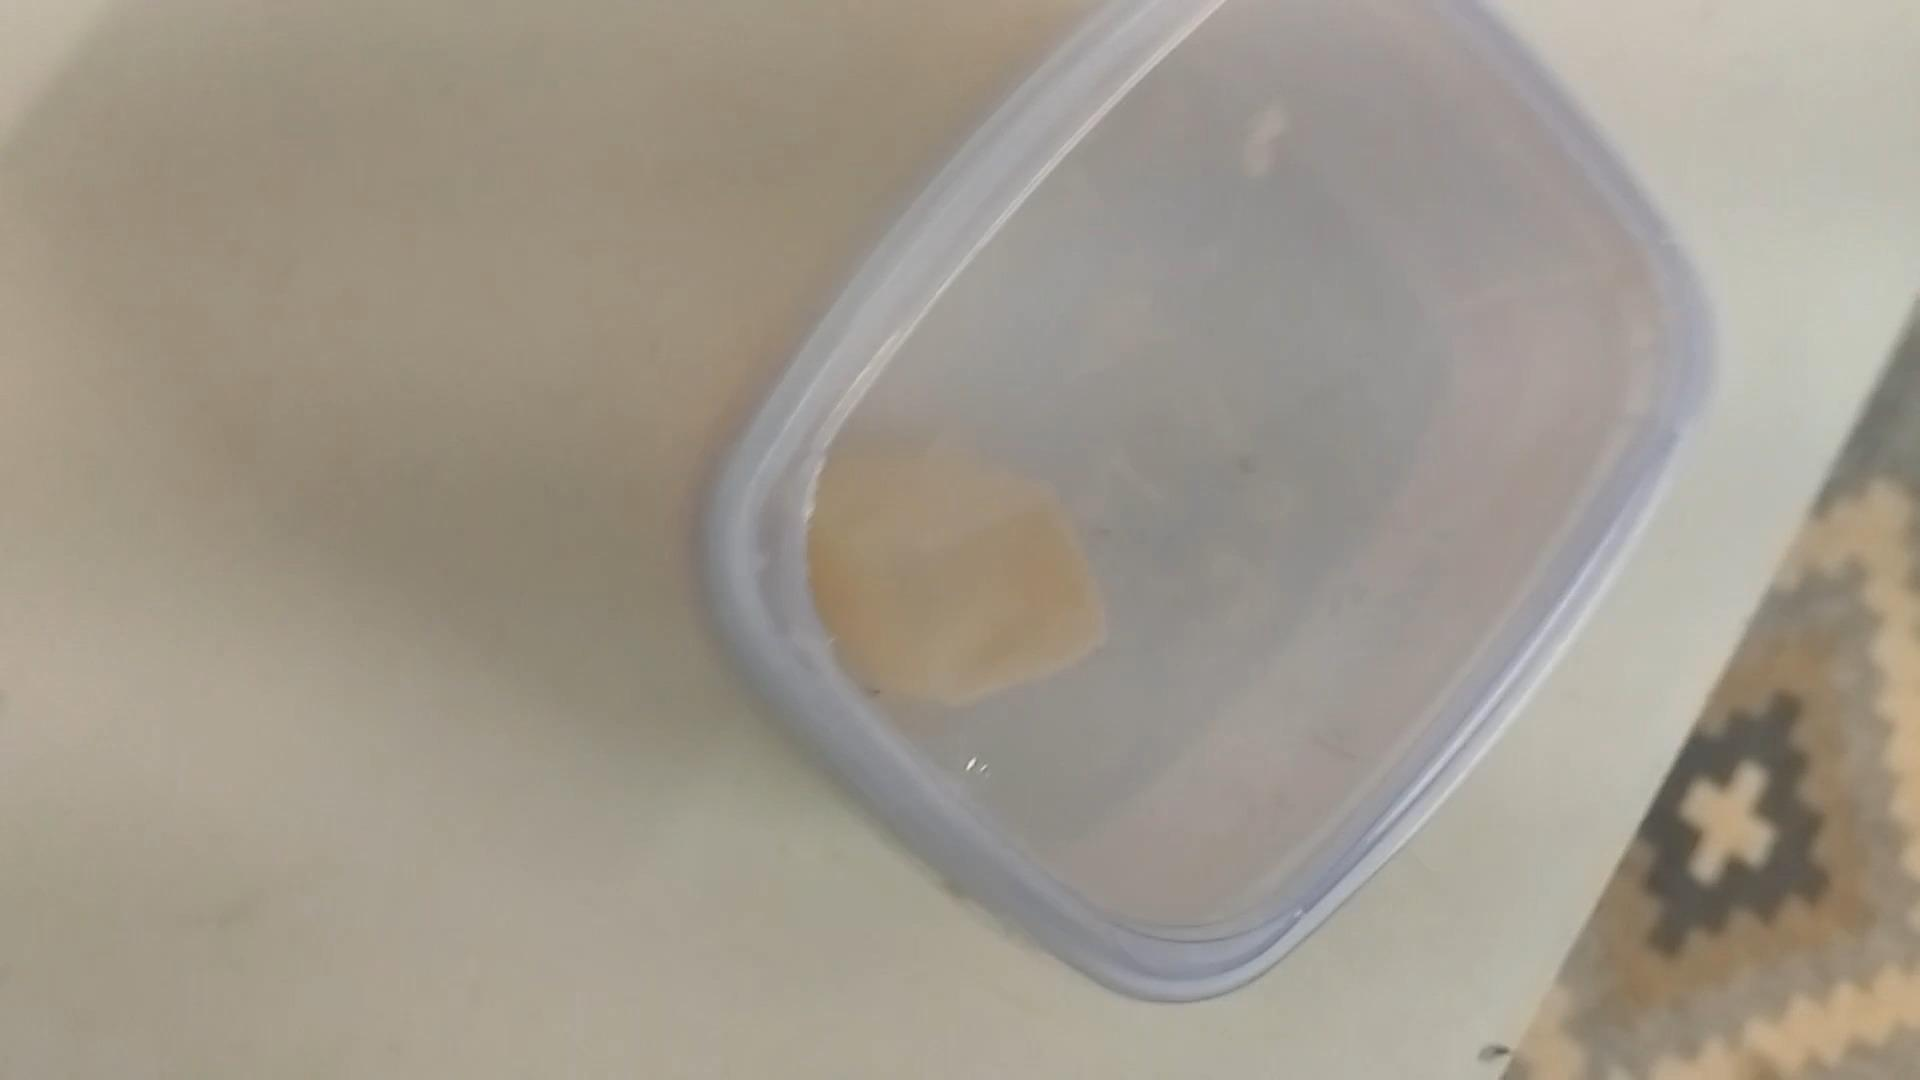butter: (707, 17, 1706, 1004)
